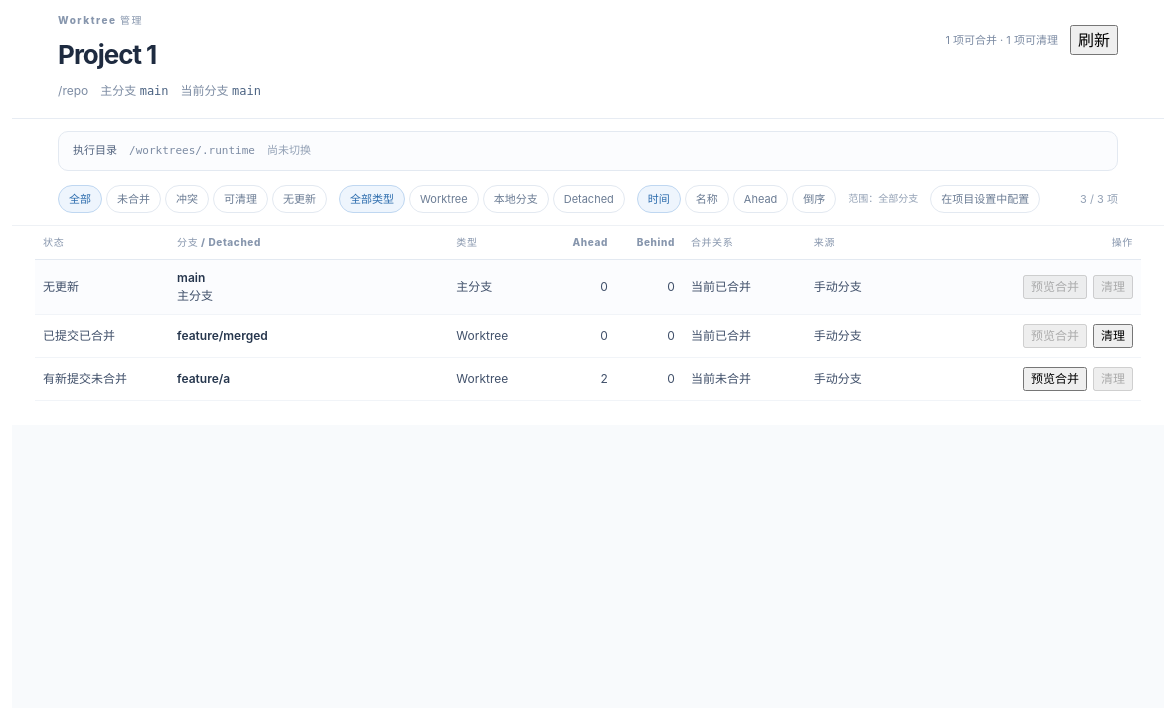
Test case: Worktree 面板：复盘后新增的交互 › 提交历史按钮打开只读日志对话框
The width and height of the screenshot is (1176, 708).
What coordinates should you click on to do the following:
click the button "有新提交未合并 feature/a Worktree 2 0 当前未合并 手动分支 预览合并 清理"
I would click on:
 (588, 379)
Its box is [35,358,1141,400].
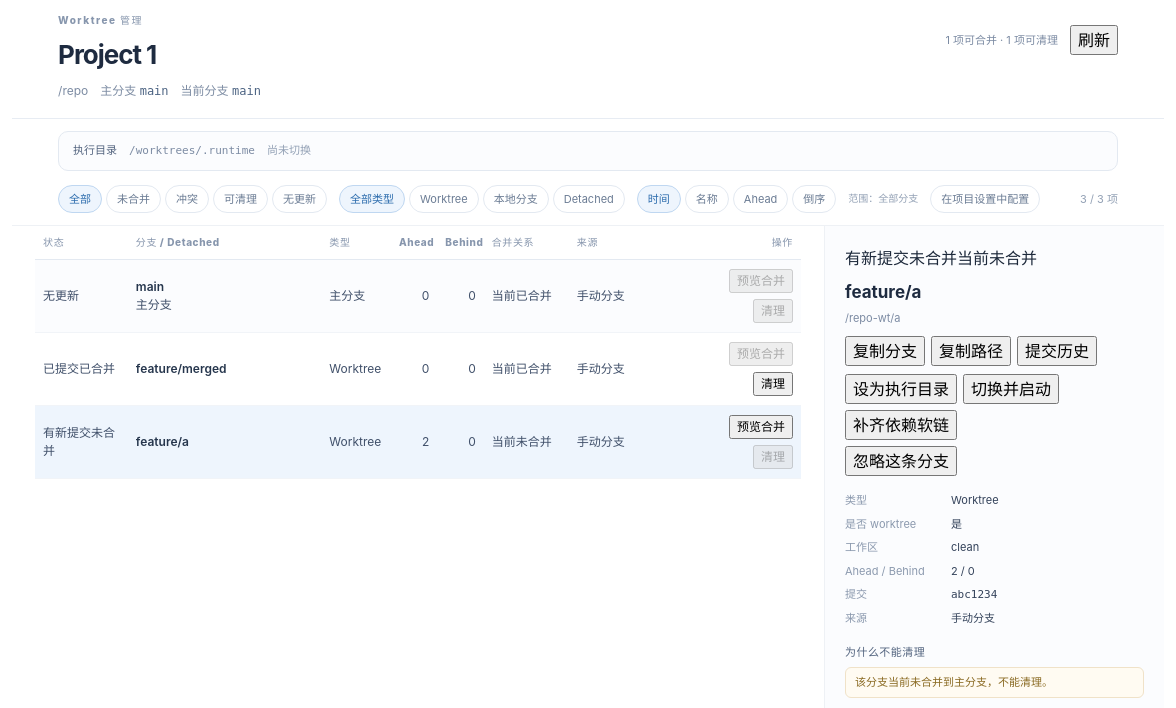
What coordinates should you click on to do the following:
click the button "提交历史"
I would click on:
 (1057, 351)
Its box is [1017,336,1097,366].
(page scrolled)
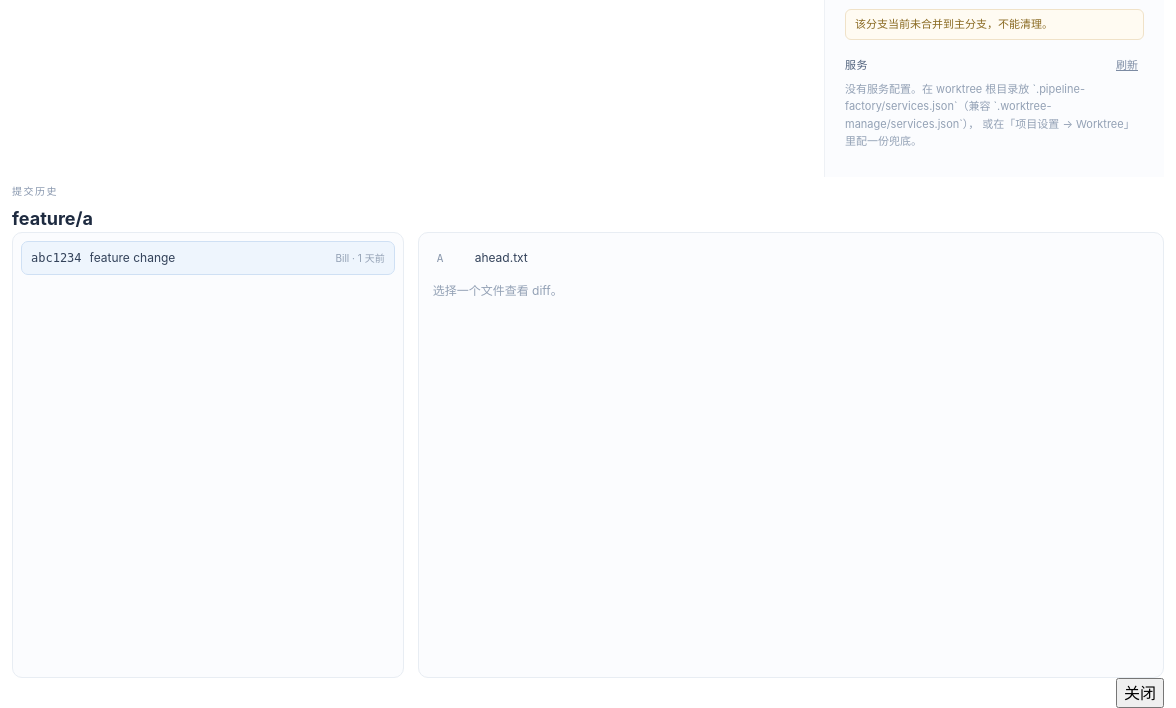
Expected: the element that starts with "abc1234" shows "feature change", [21,241,395,275]
